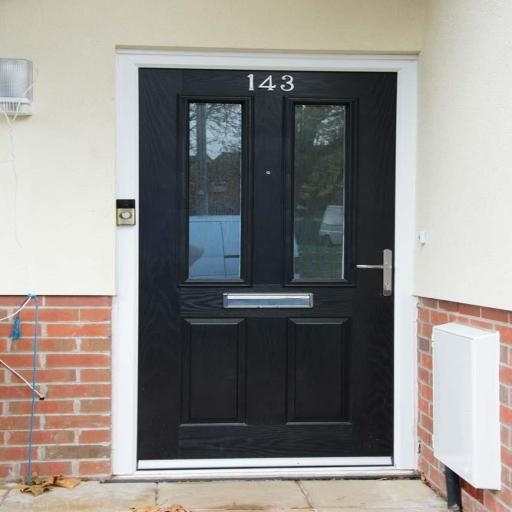door: (115, 36, 438, 482)
